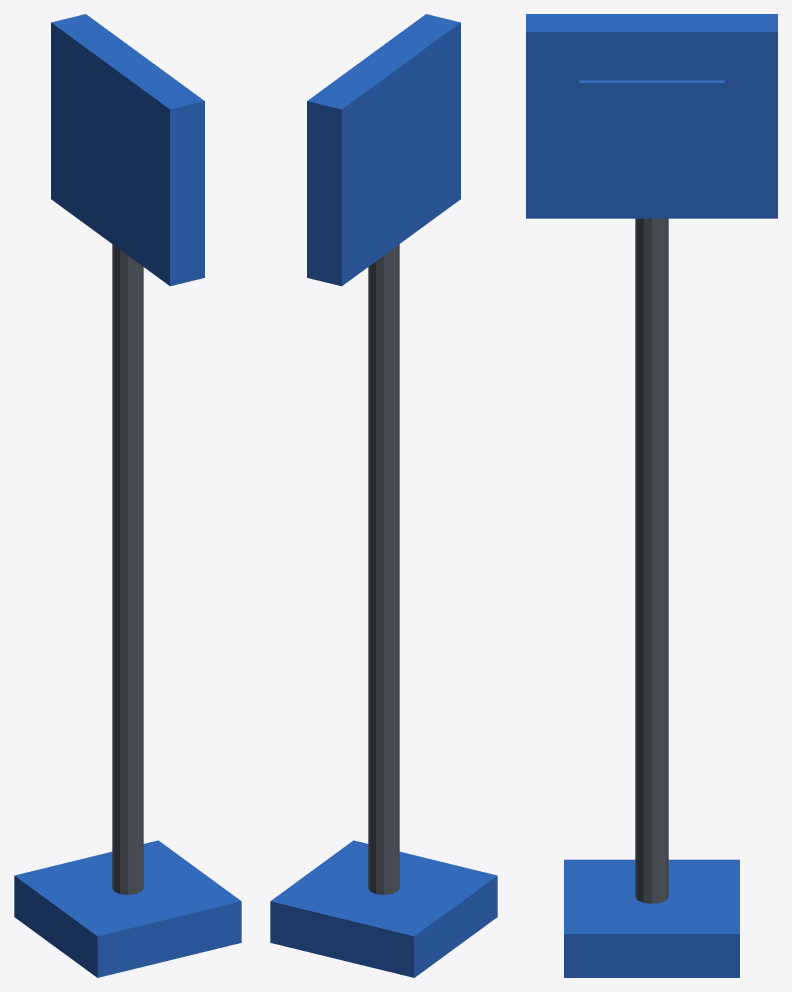
The model's file is stop_sign_bus.glb.
3 views of the same model, side by side, from view 1: azimuth 30°, elevation 25°; view 2: azimuth 150°, elevation 25°; view 3: azimuth 270°, elevation 25° (orthographic). The views are drawn at different scales.
Visible parts, largest first — view 1: stop_sign_bus; view 2: stop_sign_bus; view 3: stop_sign_bus.
Boxes of the visible parts, x1,y1,x2,y2 form: stop_sign_bus: (14,14,241,977); stop_sign_bus: (270,14,497,977); stop_sign_bus: (526,14,777,977).
Size of the model in its own units: 0.0486 by 0.28 by 0.0696.
